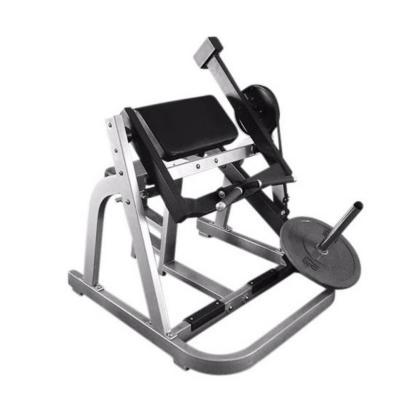arm curl machine: (69, 36, 365, 376)
